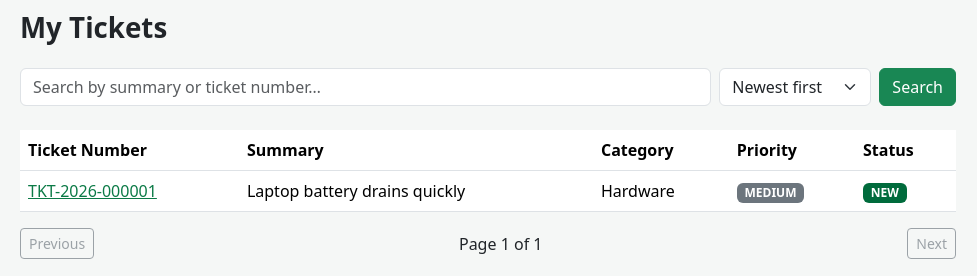
Test: UI-09 no-results state › shows a distinct message and a Clear filters action
In the search field named "search tickets": (366, 87) [20,68,711,106], type "nothing matches this"
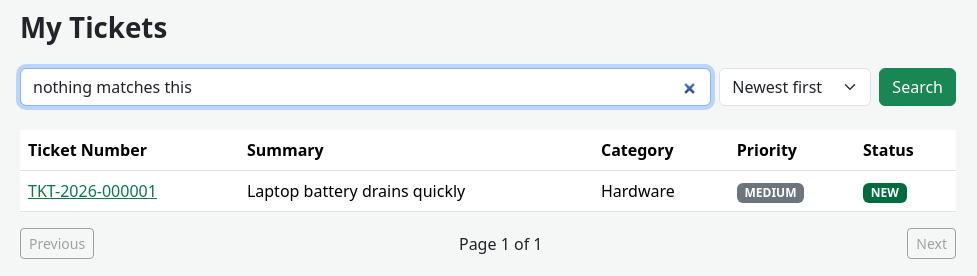
Click the button "Search": (918, 87) [879,68,956,106]
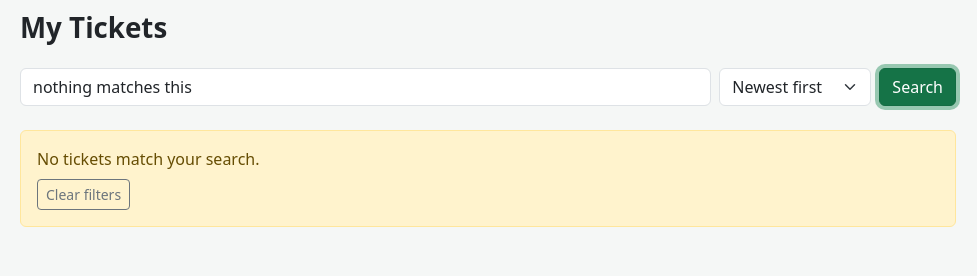
Now the text "No tickets match your search." is shown, box [37,148,260,170]
Now the button "Clear filters" is shown, box [37,179,130,210]
